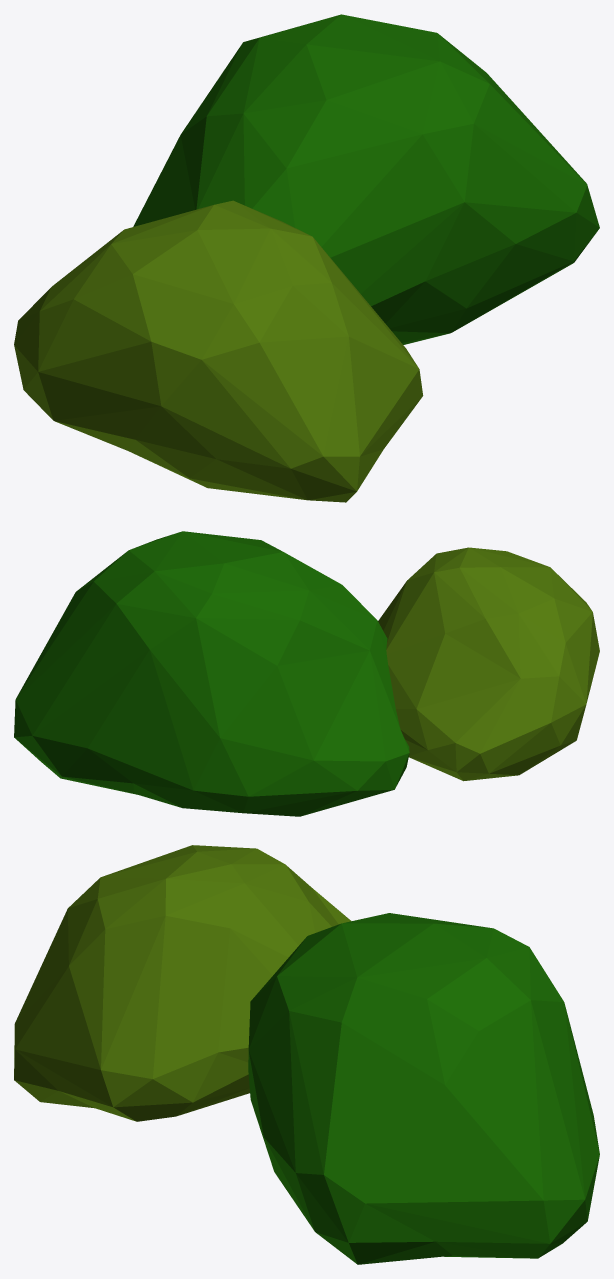
Rendered from LowPolyBush2.fbx.
3 renders of one model, top to bottom at view 1: azimuth 30°, elevation 25°; view 2: azimuth 150°, elevation 25°; view 3: azimuth 270°, elevation 25°, orthographic. The views are drawn at different scales.
Parts seen in each view (by area): view 1: Icosphere.003, Icosphere.004; view 2: Icosphere.003, Icosphere.004; view 3: Icosphere.003, Icosphere.004.
Boxes of the visible parts, box(x1,y1,x2,y2) form: Icosphere.003: box(133, 14, 599, 344); Icosphere.004: box(14, 200, 423, 502); Icosphere.003: box(14, 531, 409, 816); Icosphere.004: box(378, 547, 599, 781); Icosphere.003: box(248, 913, 599, 1264); Icosphere.004: box(14, 845, 351, 1121).
Bounding box in the file's own units: 4.12 × 3.54 × 1.86.
